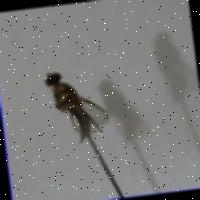Oriental-fruit-fly: (34, 52, 123, 150)
